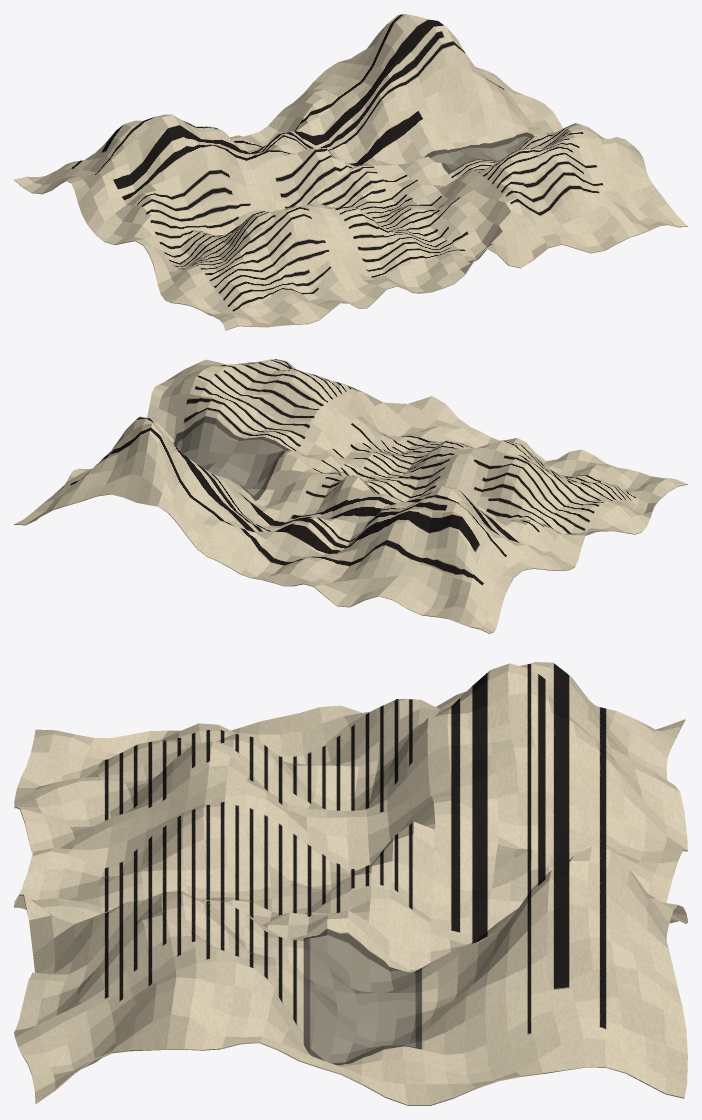
File: newspaper.fbx
The picture shows the model from 3 angles, top to bottom: view 1: azimuth 30°, elevation 25°; view 2: azimuth 150°, elevation 25°; view 3: azimuth 270°, elevation 25°; orthographic projection. The views are drawn at different scales.
Visible parts, largest first — view 1: TRASHFORM_Crumpled_Newspaper; view 2: TRASHFORM_Crumpled_Newspaper; view 3: TRASHFORM_Crumpled_Newspaper.
Boxes of the visible parts, box(x1,y1,x2,y2) form: TRASHFORM_Crumpled_Newspaper: box(14, 14, 687, 330); TRASHFORM_Crumpled_Newspaper: box(14, 359, 687, 633); TRASHFORM_Crumpled_Newspaper: box(14, 662, 687, 1105).
Size of the model in its own units: 114 by 25.97 by 87.8.
Materials: 1 (1 with a texture image).
